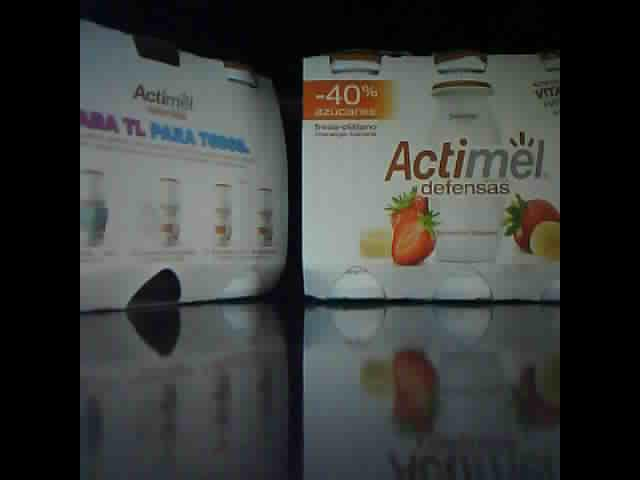actimel: (302, 48, 560, 304), (81, 14, 293, 315)
